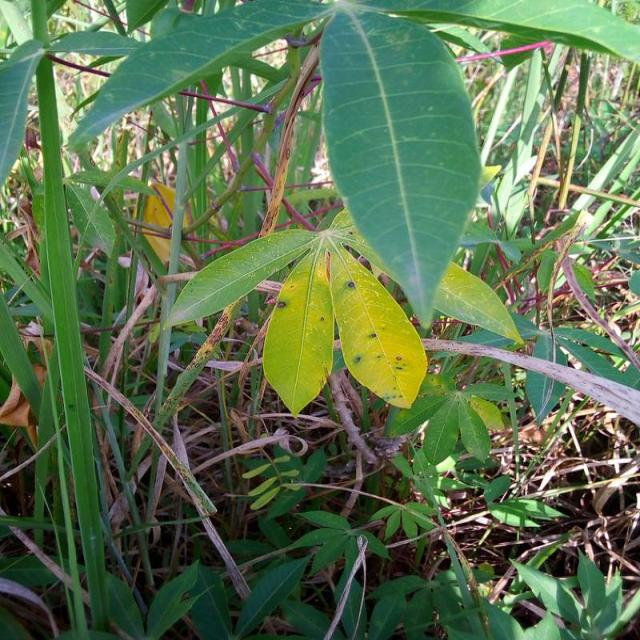cassava leaf: (162, 206, 428, 417), (318, 1, 482, 333)
